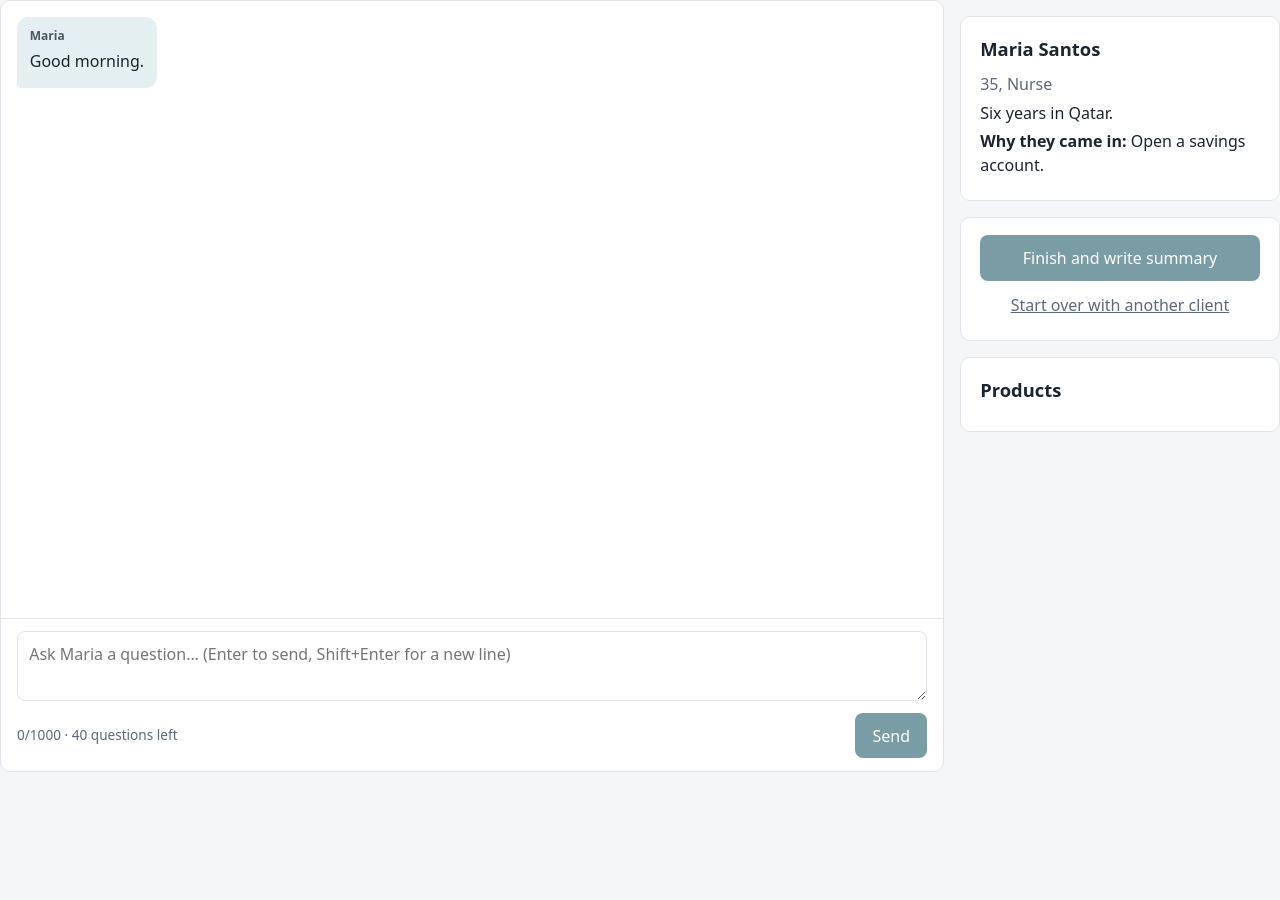
interview in a current browser › does not crash when scrollIntoView returns a Promise
This screenshot has width=1280, height=900.
Type "What are you saving for?" into the text box named "Your question" at (472, 666), box [17, 631, 927, 701]
Then press Enter
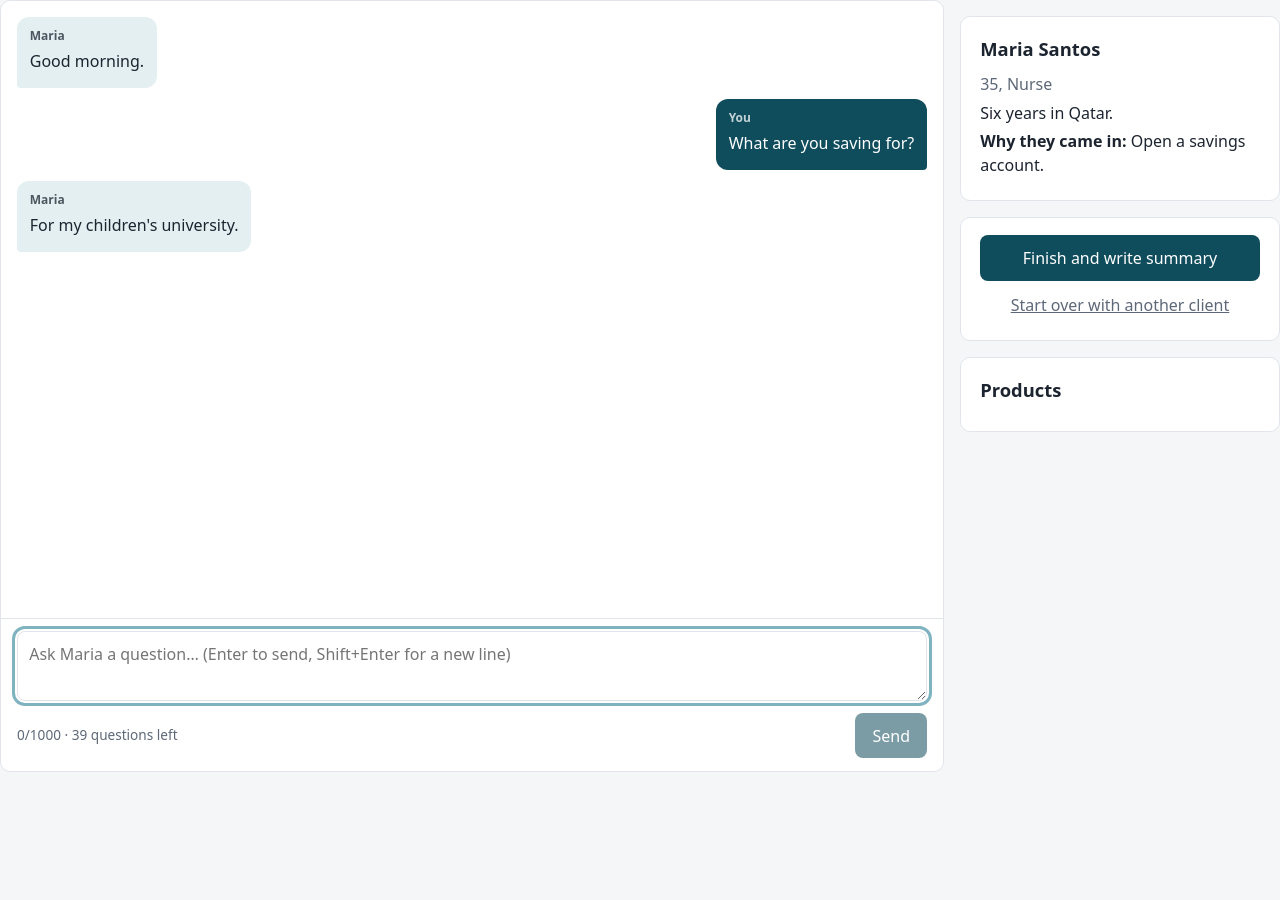
Expected: the text "For my children's university." is shown, [30, 213, 238, 237]
